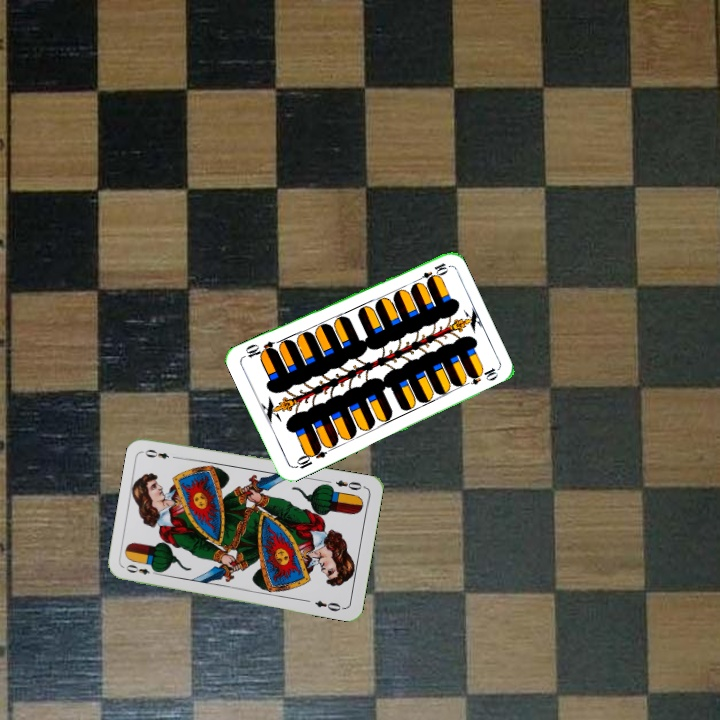E10: (290, 443, 328, 471), (411, 259, 450, 286)
EO: (122, 560, 161, 577), (331, 476, 364, 493)
